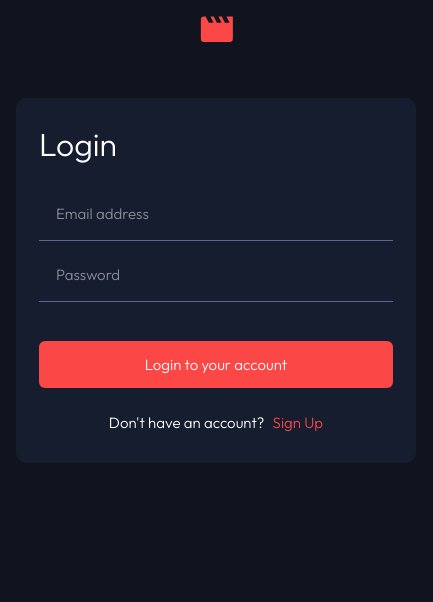
it: user login › navigate to signup page
Click the link with test id "signUpLink" at [299, 423], box [273,413,324,432]
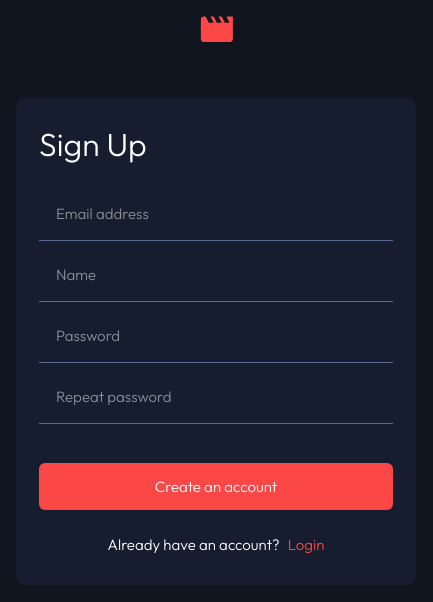
expect the form with test id "loginForm" is gone: met
expect the form with test id "signUpForm" is shown: met
